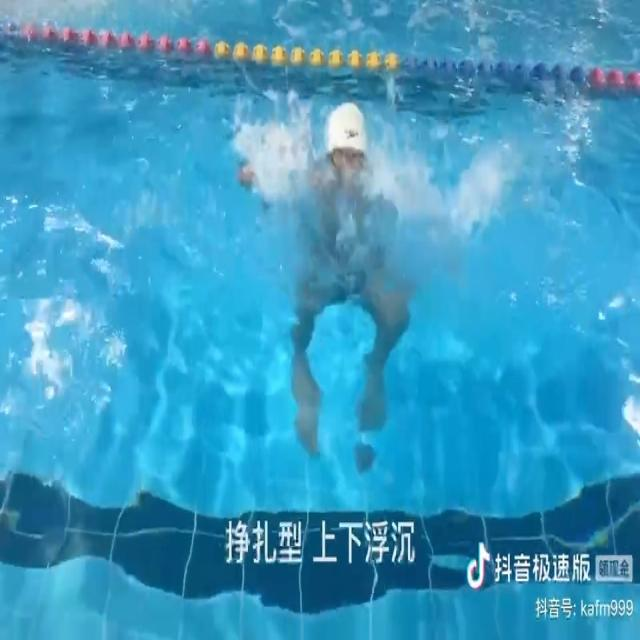Drowning: (238, 102, 426, 480)
